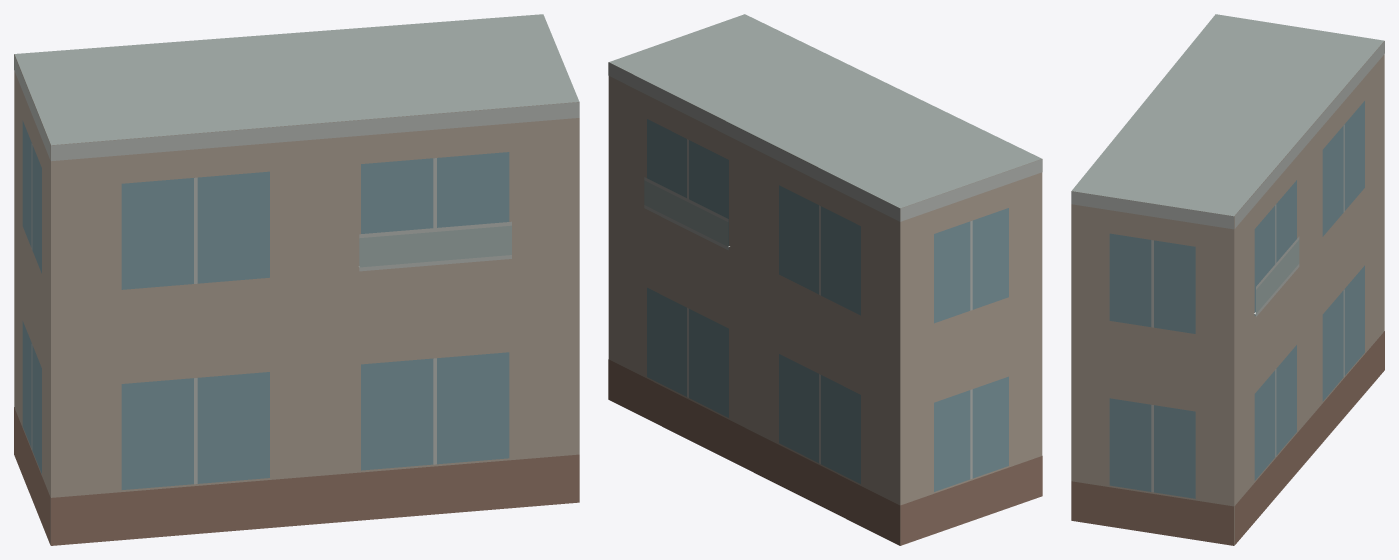
File: survey-upis-32547345.glb
The picture shows the model from 3 angles, left to right: view 1: azimuth 30°, elevation 25°; view 2: azimuth 150°, elevation 25°; view 3: azimuth 270°, elevation 25°; orthographic projection. The views are drawn at different scales.
Visible parts, largest first — view 1: survey-upis-32547345.tmp; view 2: survey-upis-32547345.tmp; view 3: survey-upis-32547345.tmp.
Boxes of the visible parts, x1,y1,x2,y2 form: survey-upis-32547345.tmp: [14, 14, 579, 545]; survey-upis-32547345.tmp: [608, 14, 1042, 545]; survey-upis-32547345.tmp: [1071, 14, 1384, 545].
Bounding box in the file's own units: 8.04 × 6.1 × 5.27.
